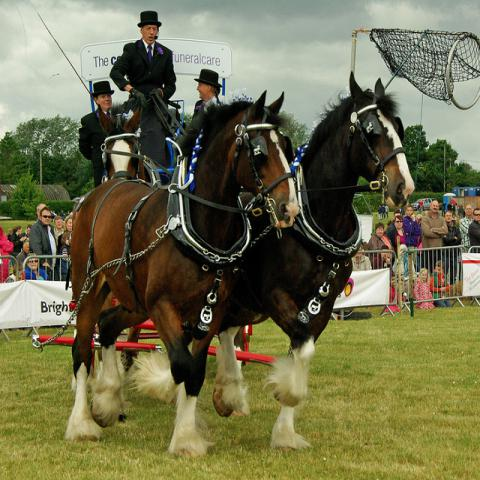car: (411, 197, 437, 211)
